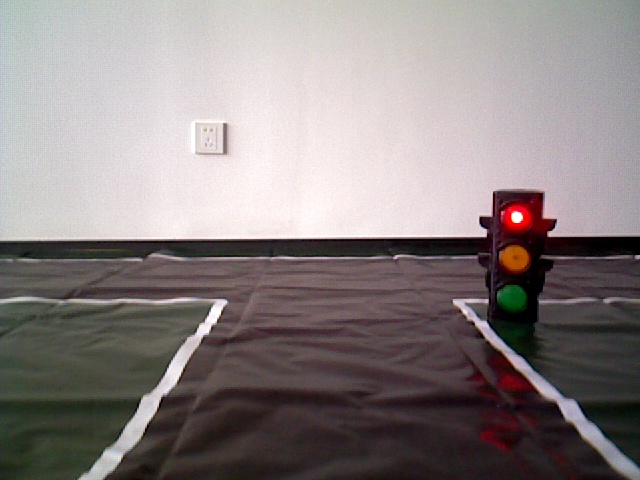red: (486, 191, 540, 316)
